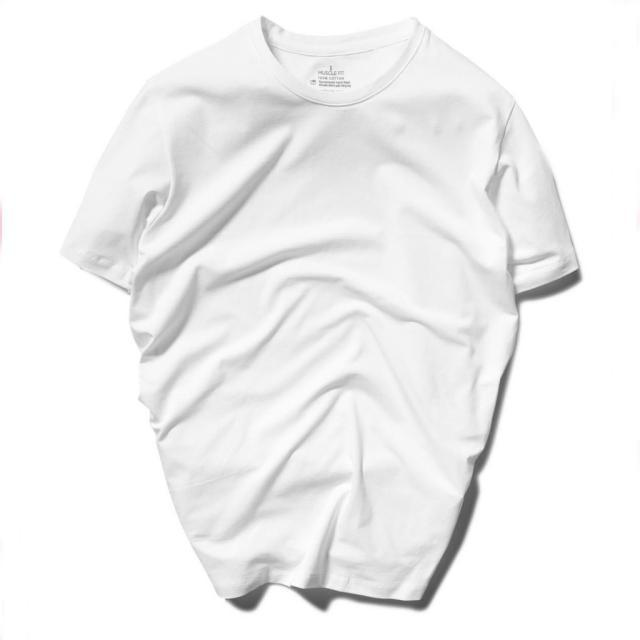Shirt: (54, 9, 588, 613)
